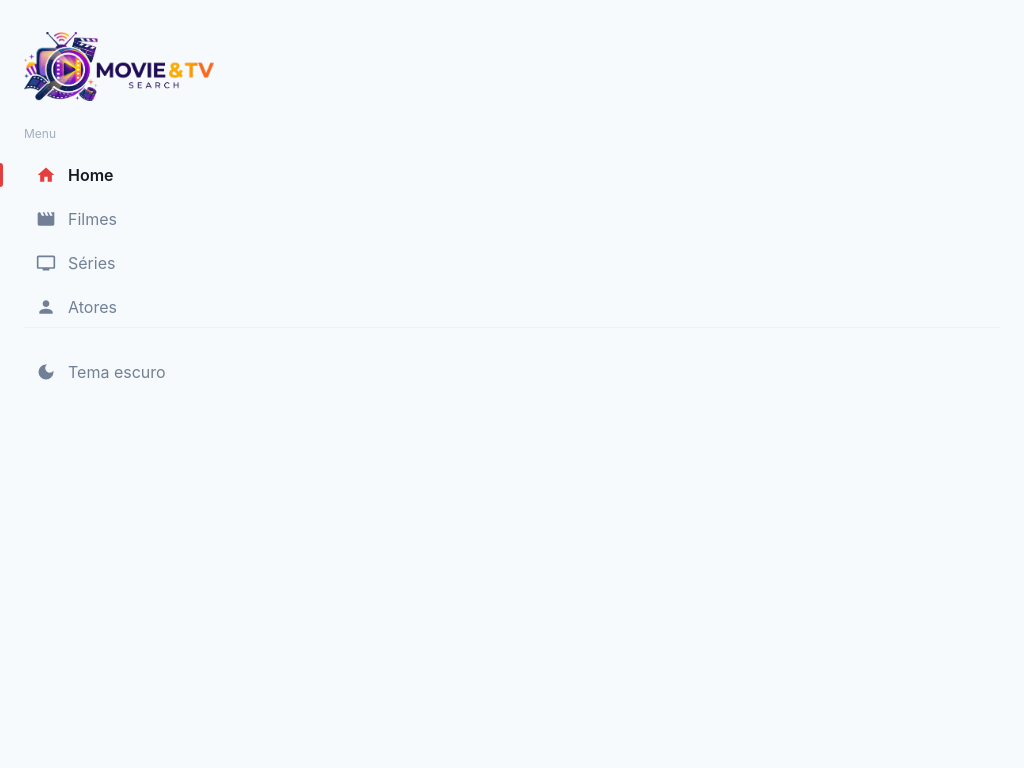
Test: Sidebar › alterna o tema e salva a escolha
The image size is (1024, 768).
Click the button "Tema escuro" at (117, 372), box top-left (24, 352), bottom-right (1000, 392)
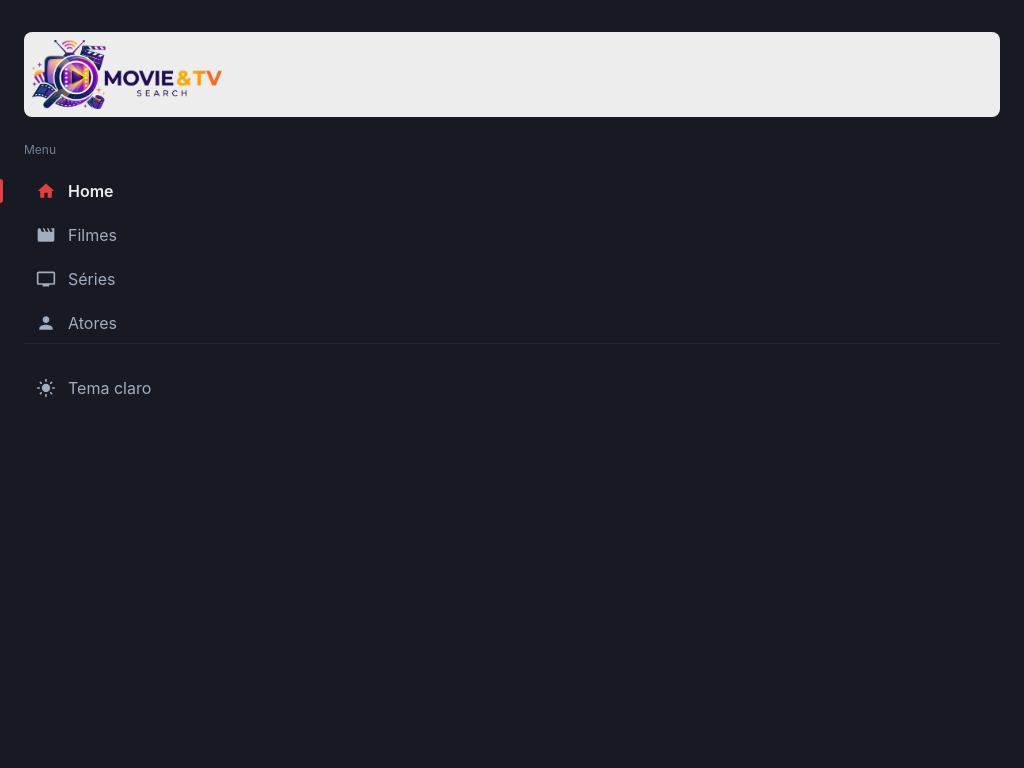
expect the button "Tema claro" is shown: met, box top-left (24, 368), bottom-right (1000, 408)
